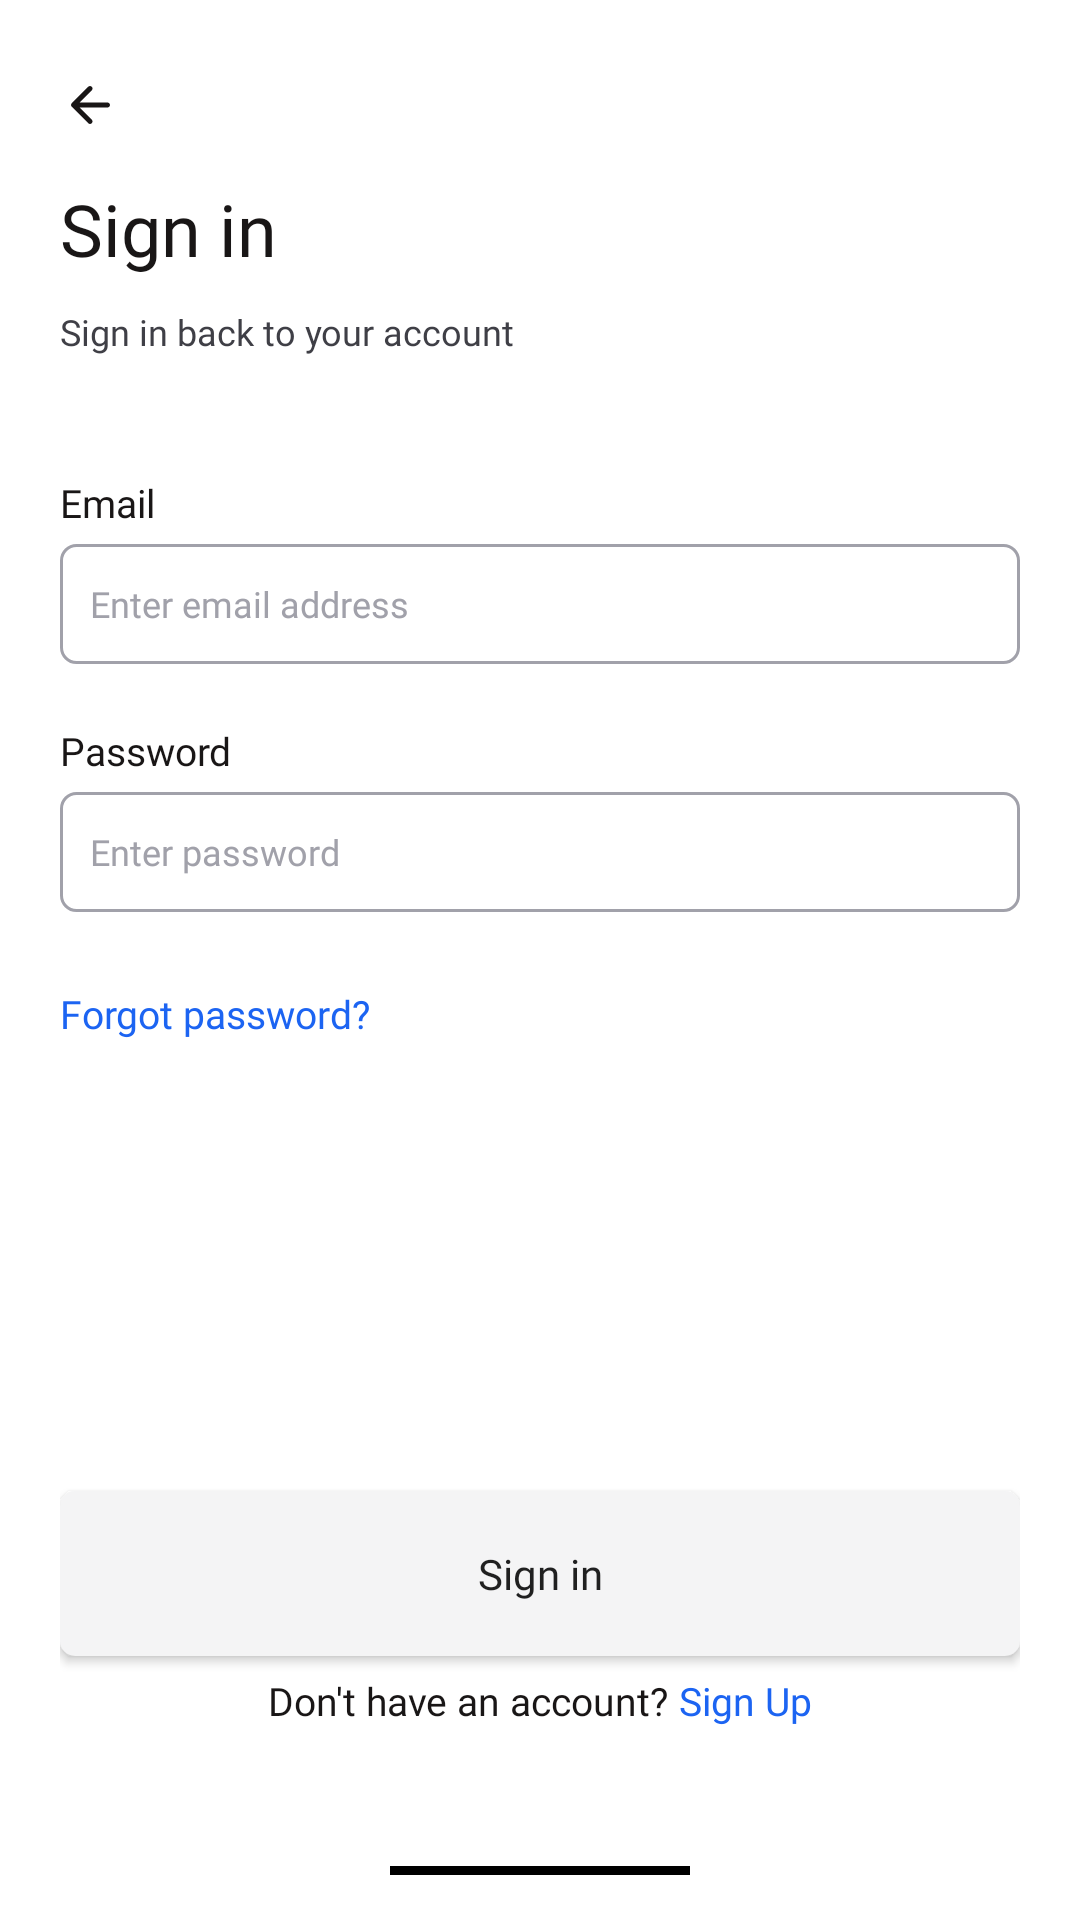

Named icons in this screenshot (1080 × 1920) and their centers, point (x, y):
arrow left: point (90, 105)
